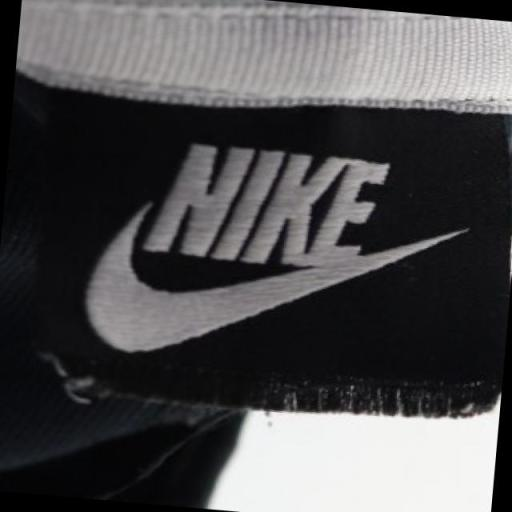Nike: (79, 220, 412, 374), (143, 136, 396, 274)
